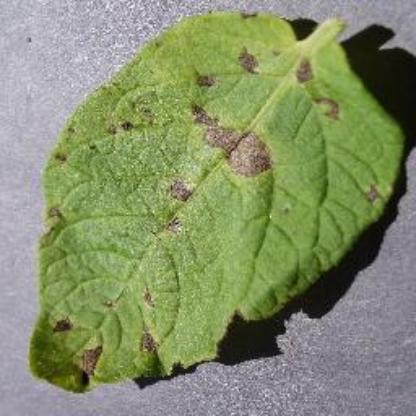Early-Blight: (28, 10, 406, 396)
